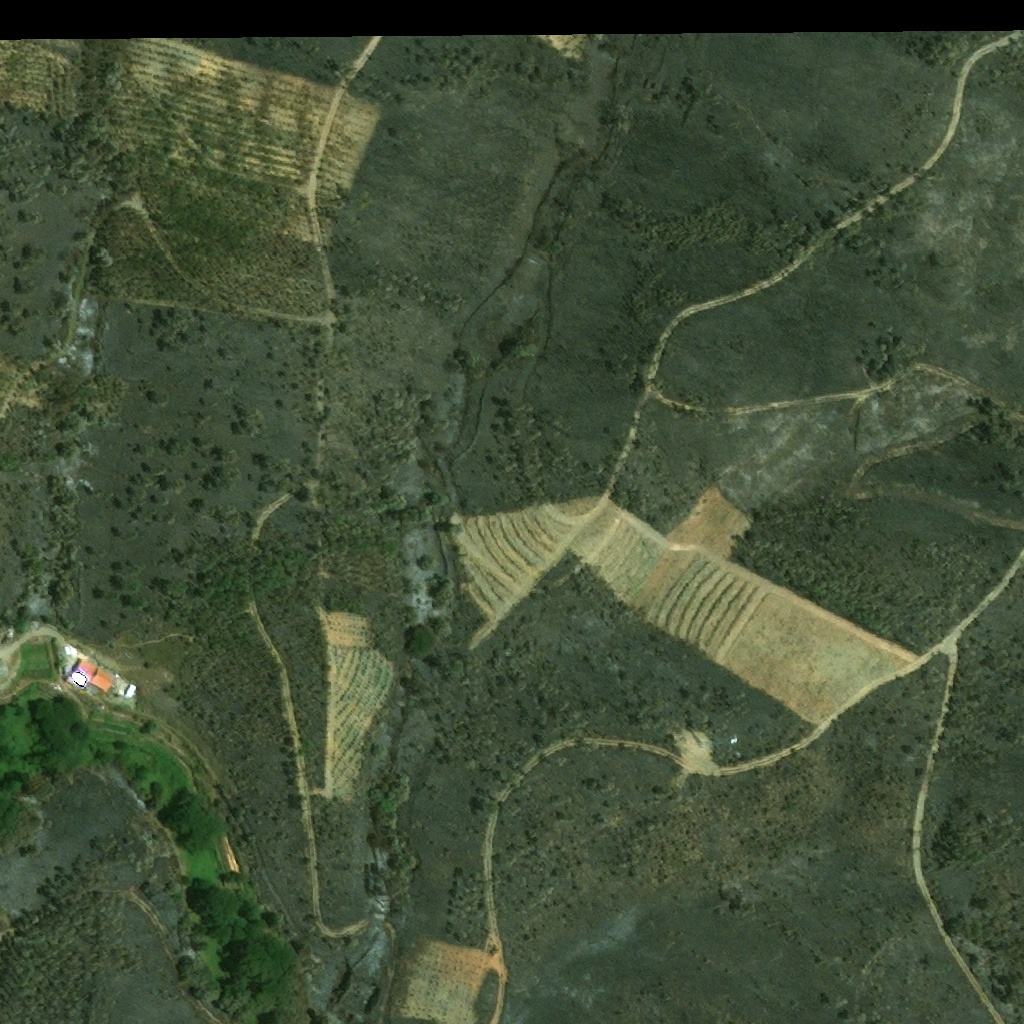0 no-damage: (69, 659, 114, 692), (125, 684, 137, 699)
